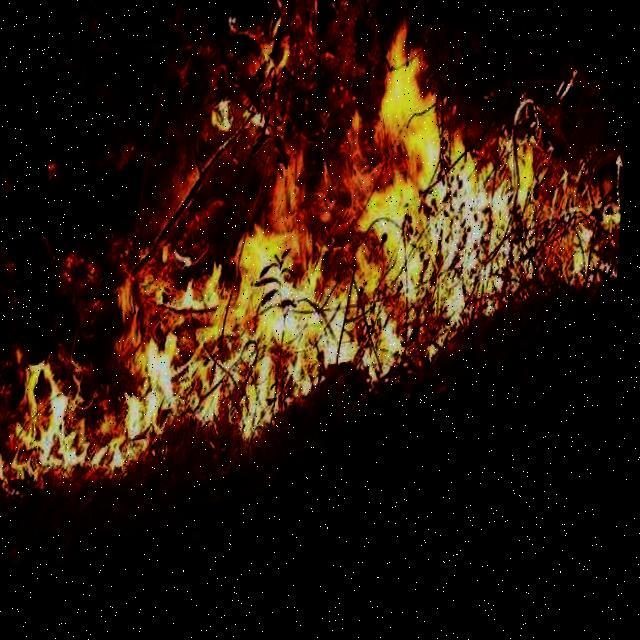Fire: (0, 12, 623, 499)
